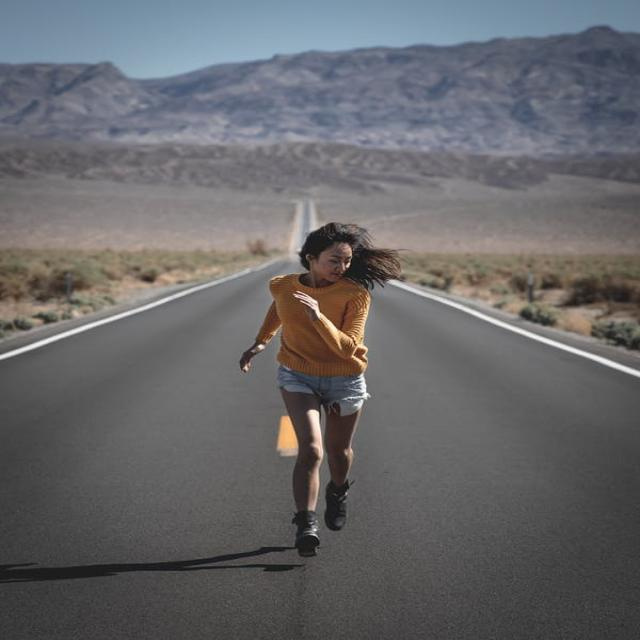running: (235, 220, 375, 560)
